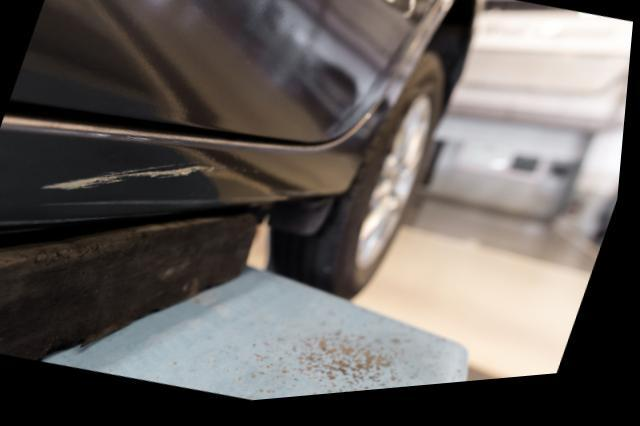scratch: (38, 166, 231, 193)
